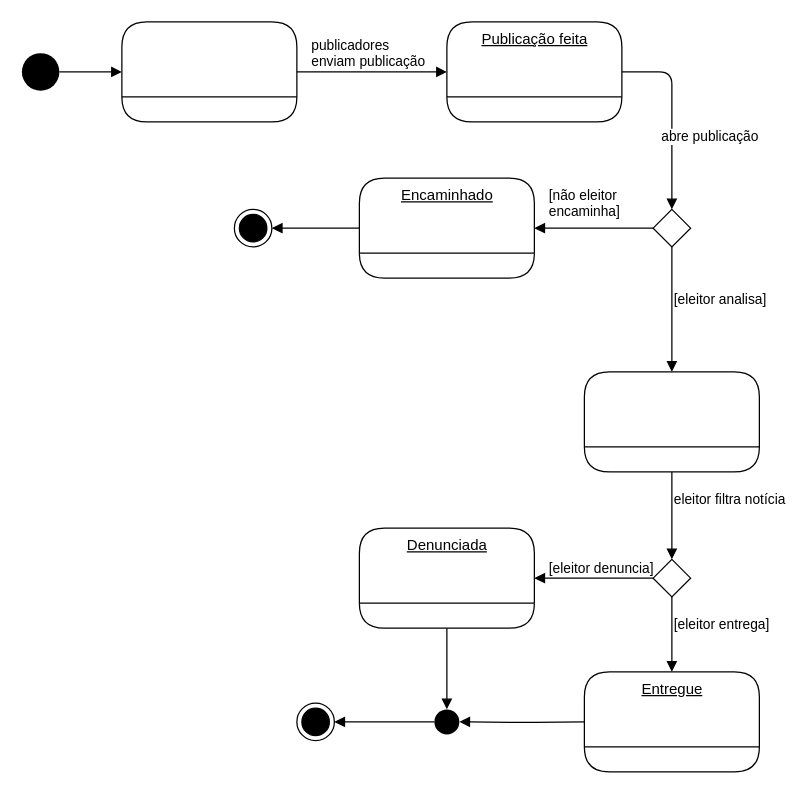
This 806x794 diagram has some shape labels left out. The shapes that lost their labels are listed below. From the top down, each one's centre as x and y in pixels, then its label:
[209,71]: Aguardando publicação
[671,421]: Analisada
